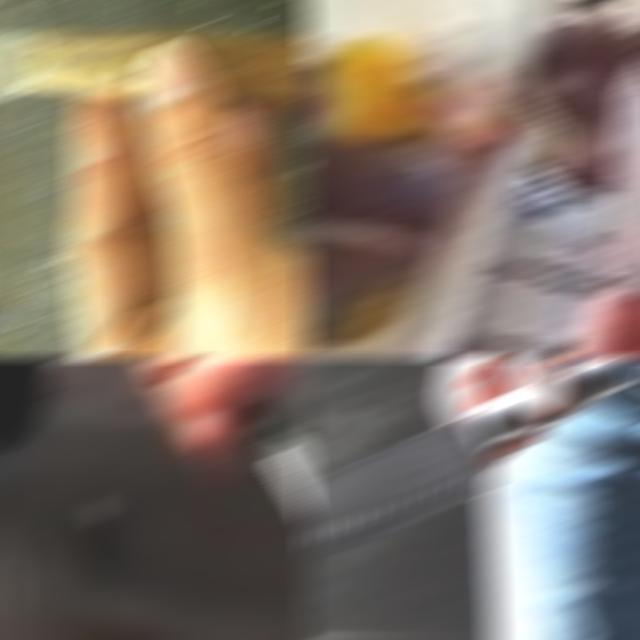Knife: (301, 360, 640, 568)
Knife_Handle: (301, 360, 640, 563), (98, 360, 313, 638), (538, 54, 640, 356)
